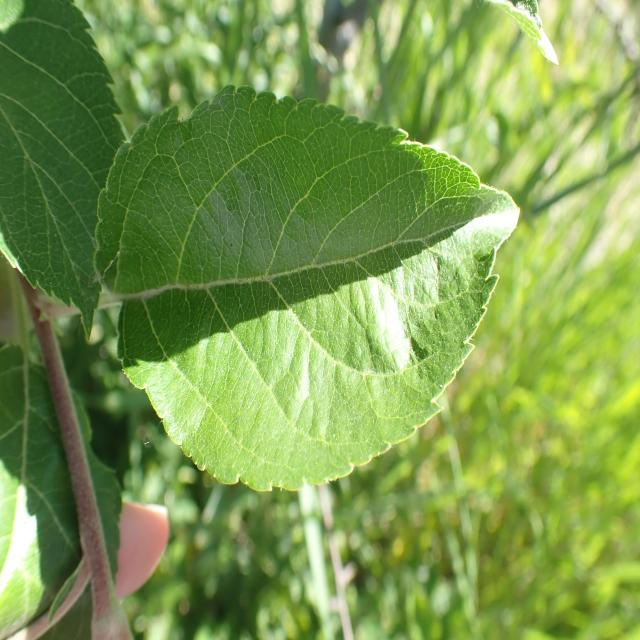healthy: (96, 85, 520, 493), (0, 0, 128, 343), (0, 342, 123, 639)
